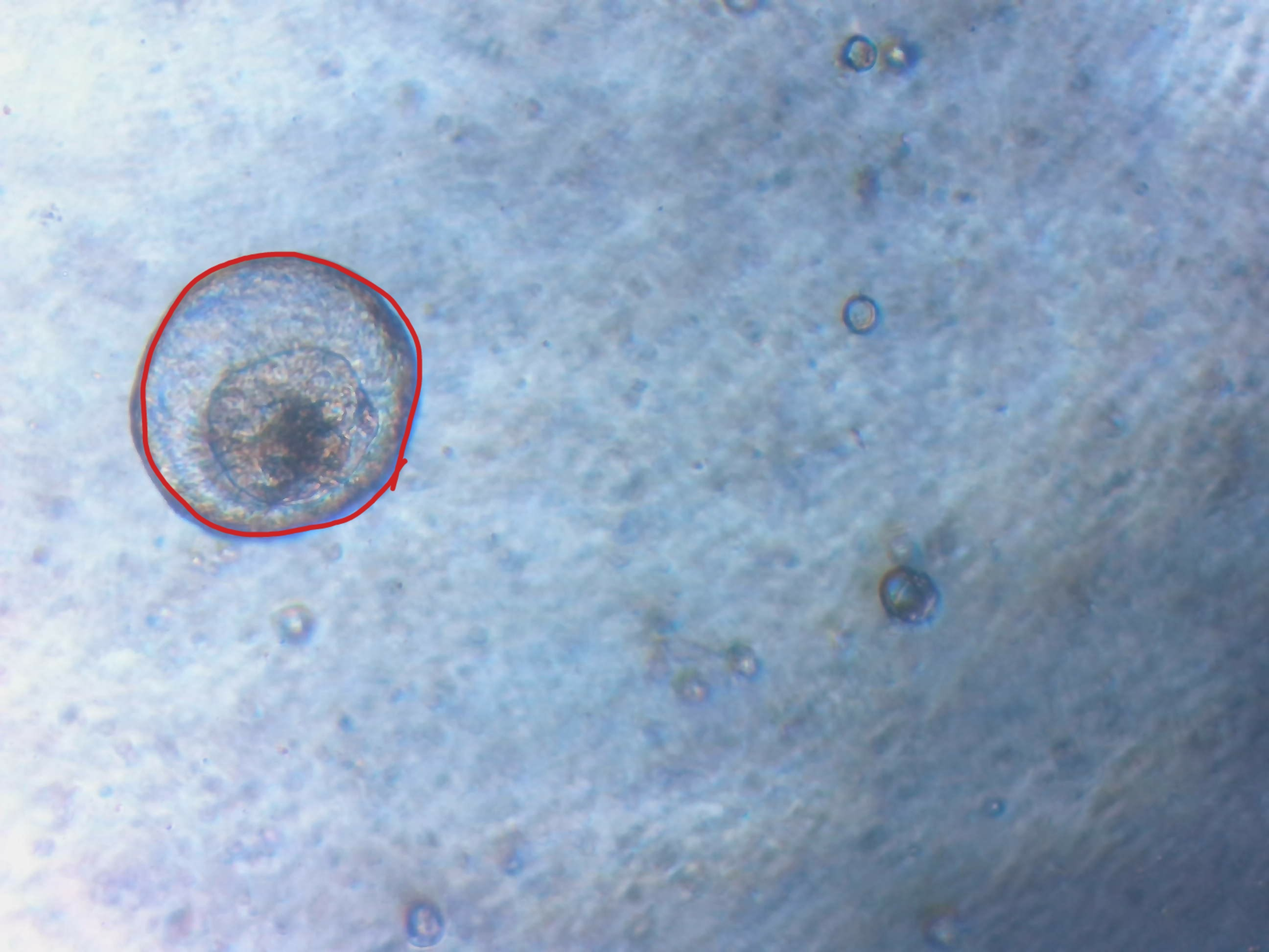organoid: (962, 167, 1120, 420), (651, 529, 765, 635), (724, 459, 808, 558)
